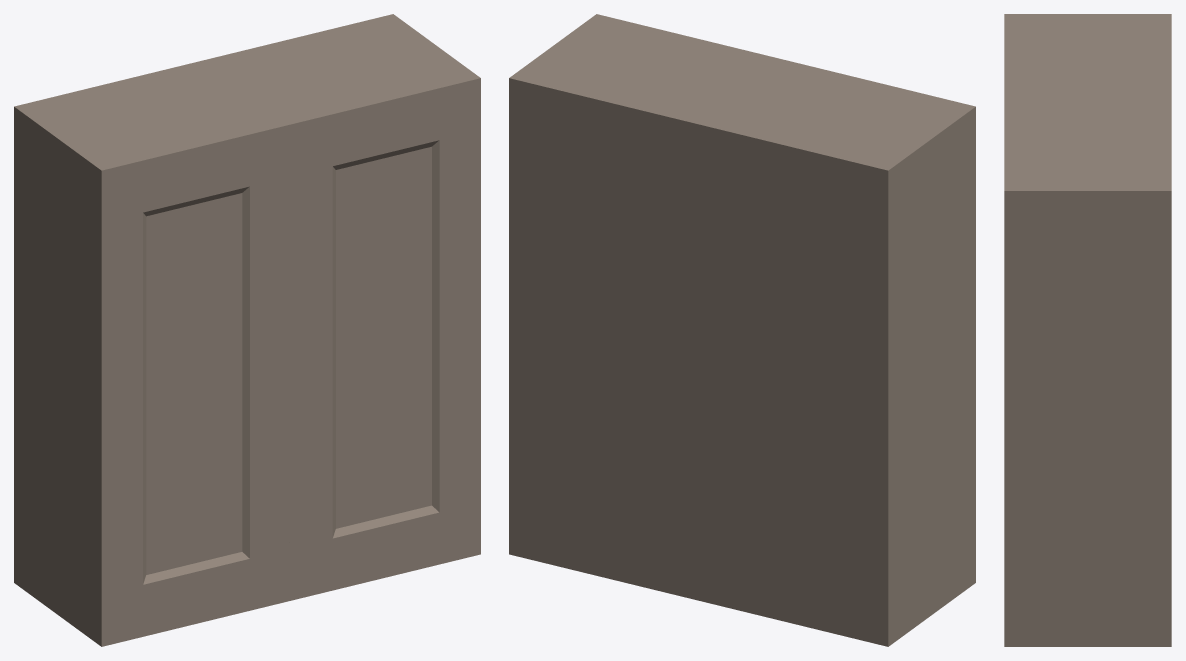
The model's file is WHP-Wall-Cabinet-Double-Door-Shelves_std_001_H36in_onlyH.glb.
3 renders of one model, left to right at view 1: azimuth 30°, elevation 25°; view 2: azimuth 150°, elevation 25°; view 3: azimuth 270°, elevation 25°, orthographic. The views are drawn at different scales.
Visible parts, largest first — view 1: WHP-Wall-Cabinet-Double-Door-Shelves.std.001_H36in_onlyH; view 2: WHP-Wall-Cabinet-Double-Door-Shelves.std.001_H36in_onlyH; view 3: WHP-Wall-Cabinet-Double-Door-Shelves.std.001_H36in_onlyH.
Part boxes in pixels (x1,y1,x2,y2): WHP-Wall-Cabinet-Double-Door-Shelves.std.001_H36in_onlyH: [14, 14, 480, 646]; WHP-Wall-Cabinet-Double-Door-Shelves.std.001_H36in_onlyH: [509, 14, 975, 646]; WHP-Wall-Cabinet-Double-Door-Shelves.std.001_H36in_onlyH: [1004, 14, 1171, 646].
Bounding box in the file's own units: 0.762 × 0.9144 × 0.3048.
